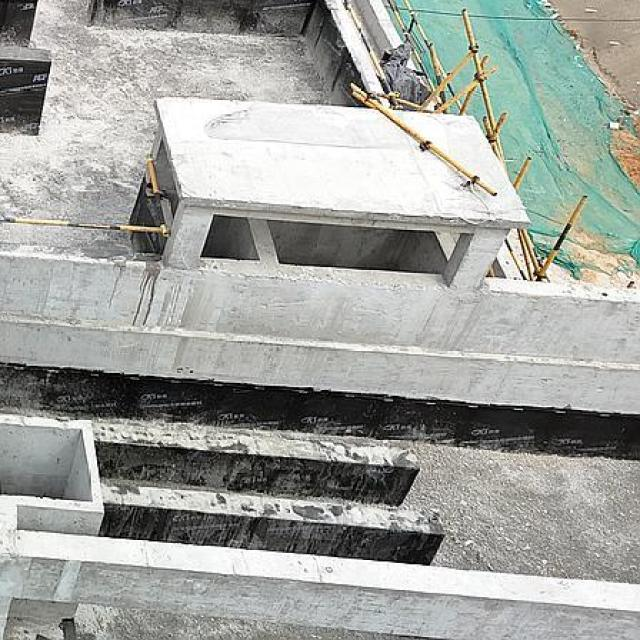Guardrail: (0, 155, 170, 258)
